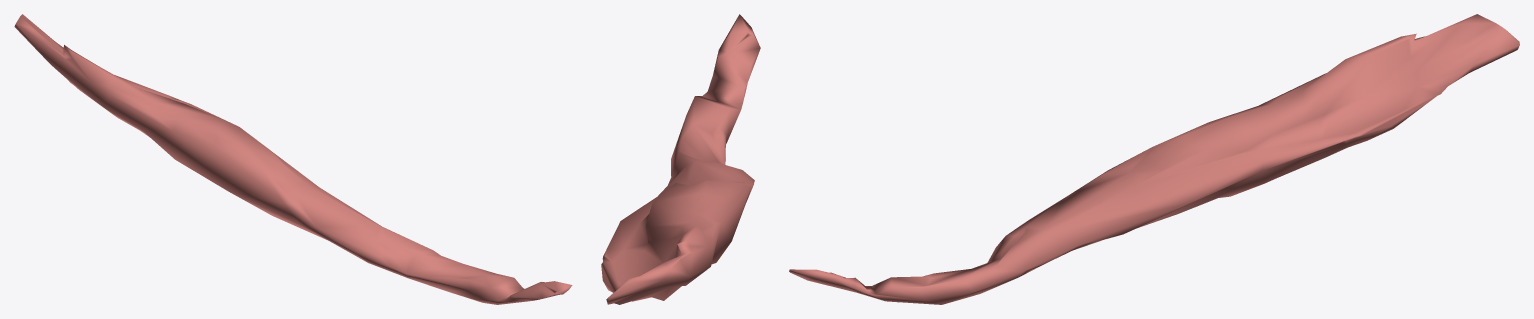
3 views of the same model, side by side, from view 1: azimuth 30°, elevation 25°; view 2: azimuth 150°, elevation 25°; view 3: azimuth 270°, elevation 25° (orthographic). The views are drawn at different scales.
Parts seen in each view (by area): view 1: ZA_0594168bc7e043e8; view 2: ZA_0594168bc7e043e8; view 3: ZA_0594168bc7e043e8.
Boxes of the visible parts, <box> form: ZA_0594168bc7e043e8: <box>14,14,572,304</box>; ZA_0594168bc7e043e8: <box>601,14,760,304</box>; ZA_0594168bc7e043e8: <box>789,14,1519,304</box>.
Bounding box in the file's own units: 0.033 × 0.0184 × 0.0727.
